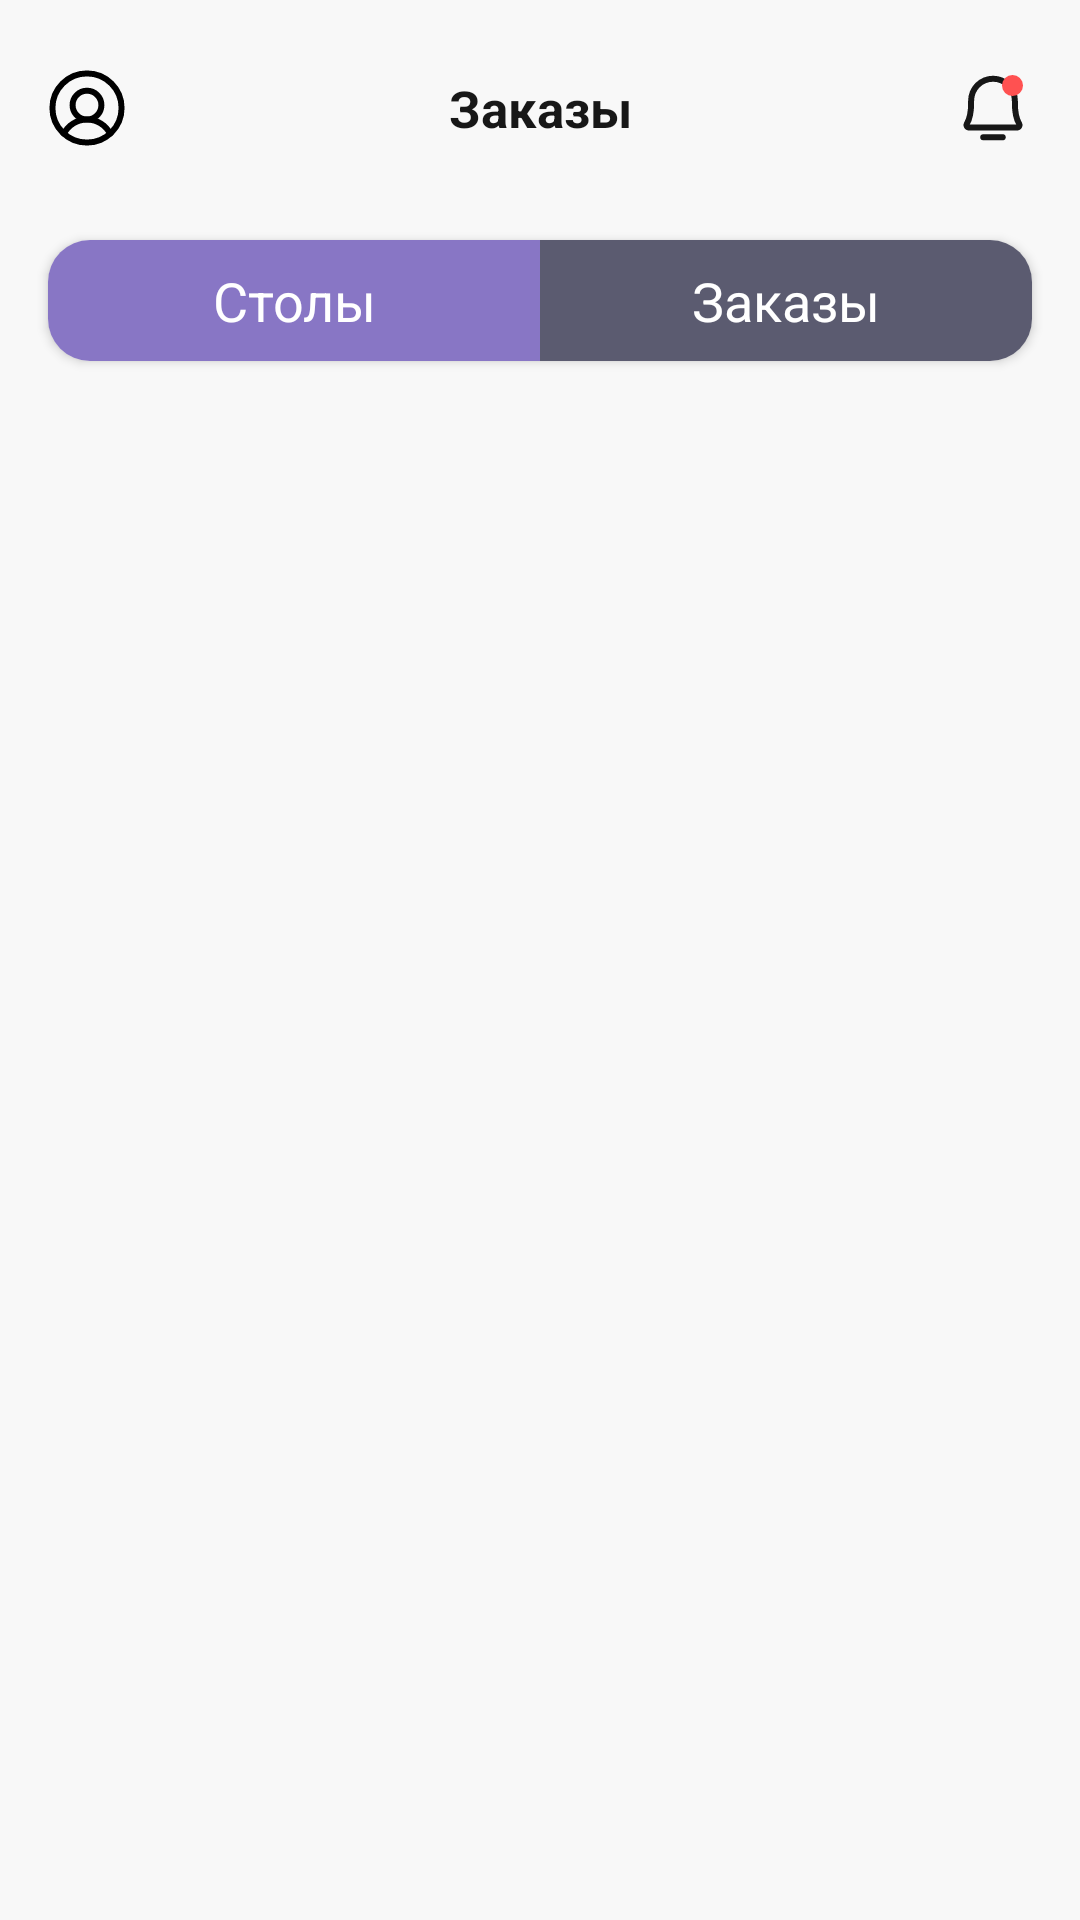

Named icons in this screenshot (1080 x 1920) and their centers, [x,y]:
notification: [993,108]
profile: [87,108]
